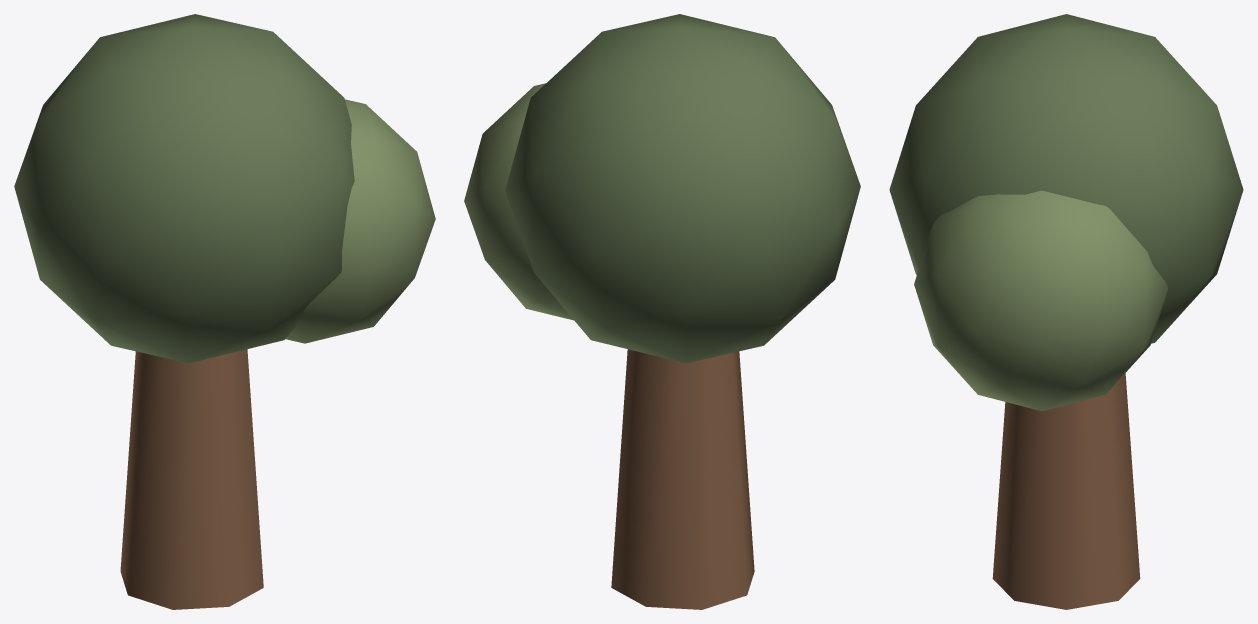
File: tree.glb
The picture shows the model from 3 angles, left to right: view 1: azimuth 30°, elevation 25°; view 2: azimuth 150°, elevation 25°; view 3: azimuth 270°, elevation 25°; orthographic projection.
Visible parts, largest first — view 1: tree; view 2: tree; view 3: tree.
Part boxes in pixels (left/top/right/bottom): tree: left=14, top=14, right=435, bottom=609; tree: left=464, top=14, right=860, bottom=609; tree: left=889, top=14, right=1243, bottom=609.
Size of the model in its own units: 1.72 by 2.47 by 1.44.
